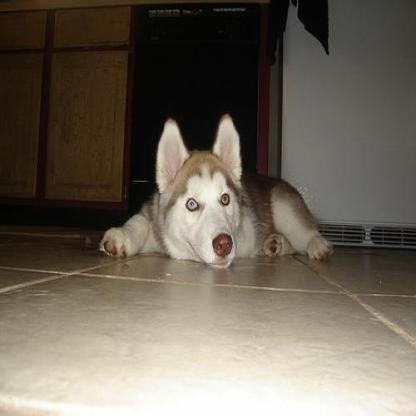Siberian_husky: (96, 112, 330, 270)
